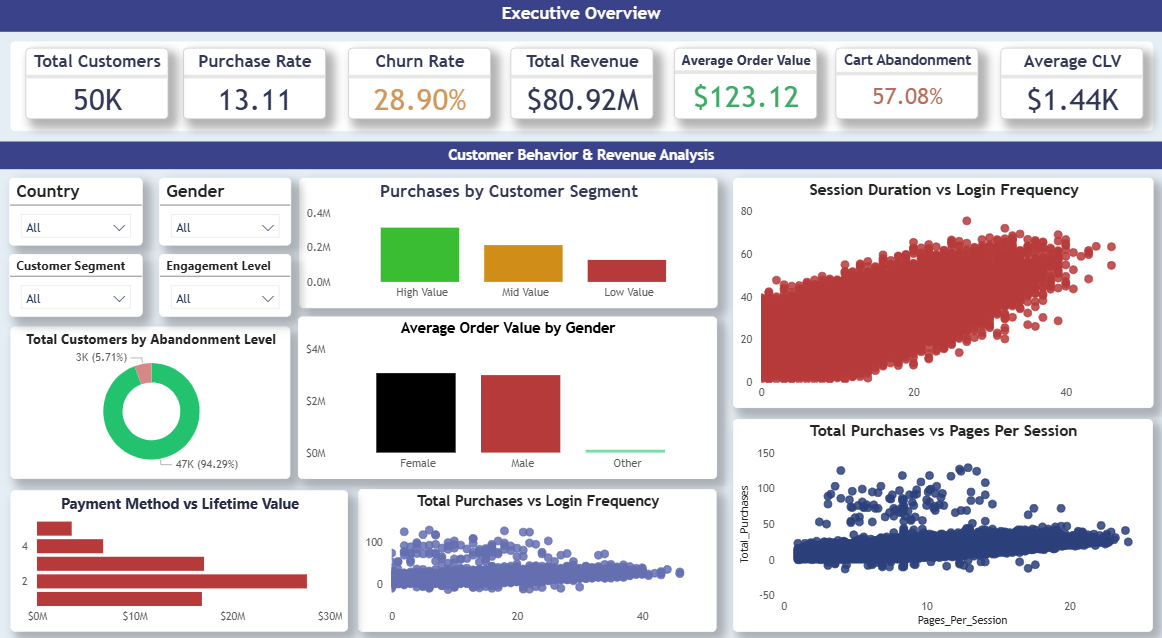

This screenshot's page, from the dashboard's own definition file:
{"tool":"powerbi","page":{"name":"Customer Engagement Behavior","canvas":[1280,720],"ordinal":0},"visuals":[{"type":"textbox","box":[0,11,1280.3,35.7],"z":0},{"type":"textbox","box":[0,167.4,1280.3,30.2],"z":1000},{"type":"textbox","box":[13.7,57.6,1254.2,98.8],"z":2000},{"type":"card","title":"Purchase Rate","fields":{"Values":["ecommerce_kpi_data.Purchase Rate %"]},"box":[203.1,64.5,156.4,78.2],"z":3000},{"type":"card","title":"Total Customers","fields":{"Values":["ecommerce_kpi_data.Total Customers"]},"box":[30.2,64.5,156.4,78.2],"z":4000},{"type":"card","title":"Churn Rate","fields":{"Values":["ecommerce_kpi_data.Churn Rate"]},"box":[384.2,64.5,156.4,78.2],"z":5000},{"type":"card","title":"Cart Abandonment","fields":{"Values":["ecommerce_kpi_data.Average Cart Abandonment Rate"]},"box":[919.4,64.5,156.4,78.2],"z":6000},{"type":"card","title":"Total Revenue","fields":{"Values":["Sum(ecommerce_kpi_data.Revenue)"]},"box":[562.6,64.5,156.4,78.2],"z":7000},{"type":"card","title":"Average Order Value","fields":{"Values":["Avg(ecommerce_kpi_data.Average_Order_Value)"]},"box":[742.4,64.5,156.4,78.2],"z":8000},{"type":"card","title":"Average CLV","fields":{"Values":["Avg(ecommerce_kpi_data.Lifetime_Value)"]},"box":[1100.5,64.5,156.4,78.2],"z":9000},{"type":"columnChart","title":"Purchases by Customer Segment","fields":{"Category":["ecommerce_kpi_data.customer_segment"],"Y":["Sum(ecommerce_kpi_data.Total_Purchases)"]},"box":[330.8,206.7,458.9,143.3],"z":10000},{"type":"donutChart","title":"Total Customers by Abandonment Level","fields":{"Y":["ecommerce_kpi_data.Total Customers"],"Category":["ecommerce_kpi_data.Abandonment_Level"]},"box":[13.7,370.5,307.4,167.4],"z":11000},{"type":"scatterChart","title":"Session Duration vs Login Frequency","fields":{"X":["ecommerce_kpi_data.Login_Frequency"],"Y":["ecommerce_kpi_data.Session_Duration_Avg"]},"box":[806.2,206.6,461.9,252.9],"z":12000},{"type":"scatterChart","title":"Total Purchases vs Pages Per Session","fields":{"X":["ecommerce_kpi_data.Pages_Per_Session"],"Y":["ecommerce_kpi_data.Total_Purchases"]},"box":[806.9,472,461.1,233.3],"z":13000},{"type":"slicer","title":"Country","fields":{"Values":["ecommerce_kpi_data.Country"]},"box":[12.4,206.7,146.1,74.4],"z":14000},{"type":"slicer","title":"Gender","fields":{"Values":["ecommerce_kpi_data.Gender"]},"box":[176.4,206.7,144.7,74.4],"z":15000},{"type":"slicer","title":"Customer Segment","fields":{"Values":["ecommerce_kpi_data.customer_segment"]},"box":[12.4,290.8,146.1,68.9],"z":16000},{"type":"slicer","title":"Engagement Level","fields":{"Values":["ecommerce_kpi_data.Engagement_Level"]},"box":[176.4,290.8,144.7,68.9],"z":17000},{"type":"clusteredColumnChart","title":"Average Order Value by Gender","fields":{"Category":["ecommerce_kpi_data.Gender"],"Y":["Sum(ecommerce_kpi_data.Average_Order_Value)"]},"box":[329.3,359.5,459.7,178.4],"z":18000},{"type":"scatterChart","title":"Total Purchases vs Login Frequency","fields":{"X":["ecommerce_kpi_data.Login_Frequency"],"Y":["ecommerce_kpi_data.Total_Purchases"]},"box":[395.2,548.9,393.8,156.4],"z":19000},{"type":"clusteredBarChart","title":"Payment Method vs Lifetime Value","fields":{"Category":["ecommerce_kpi_data.Payment_Method_Diversity"],"Y":["Sum(ecommerce_kpi_data.Lifetime_Value)"]},"box":[13.7,550.3,370.5,155.1],"z":20000}]}

Visuals, with their boxes in screenshot pixels (x1, y1, x2, y2), scaled from the page's 1280x720 canvas onto the 1162x638 screenshot:
textbox: bbox=(0, 10, 1161, 41)
textbox: bbox=(0, 148, 1161, 175)
textbox: bbox=(12, 51, 1151, 139)
"Purchase Rate" card: bbox=(184, 57, 326, 126)
"Total Customers" card: bbox=(27, 57, 169, 126)
"Churn Rate" card: bbox=(349, 57, 491, 126)
"Cart Abandonment" card: bbox=(835, 57, 977, 126)
"Total Revenue" card: bbox=(511, 57, 653, 126)
"Average Order Value" card: bbox=(674, 57, 816, 126)
"Average CLV" card: bbox=(999, 57, 1141, 126)
"Purchases by Customer Segment" columnChart: bbox=(300, 183, 717, 310)
"Total Customers by Abandonment Level" donutChart: bbox=(12, 328, 291, 477)
"Session Duration vs Login Frequency" scatterChart: bbox=(732, 183, 1151, 407)
"Total Purchases vs Pages Per Session" scatterChart: bbox=(733, 418, 1151, 625)
"Country" slicer: bbox=(11, 183, 144, 249)
"Gender" slicer: bbox=(160, 183, 291, 249)
"Customer Segment" slicer: bbox=(11, 258, 144, 319)
"Engagement Level" slicer: bbox=(160, 258, 291, 319)
"Average Order Value by Gender" clusteredColumnChart: bbox=(299, 319, 716, 477)
"Total Purchases vs Login Frequency" scatterChart: bbox=(359, 486, 716, 625)
"Payment Method vs Lifetime Value" clusteredBarChart: bbox=(12, 488, 349, 625)
